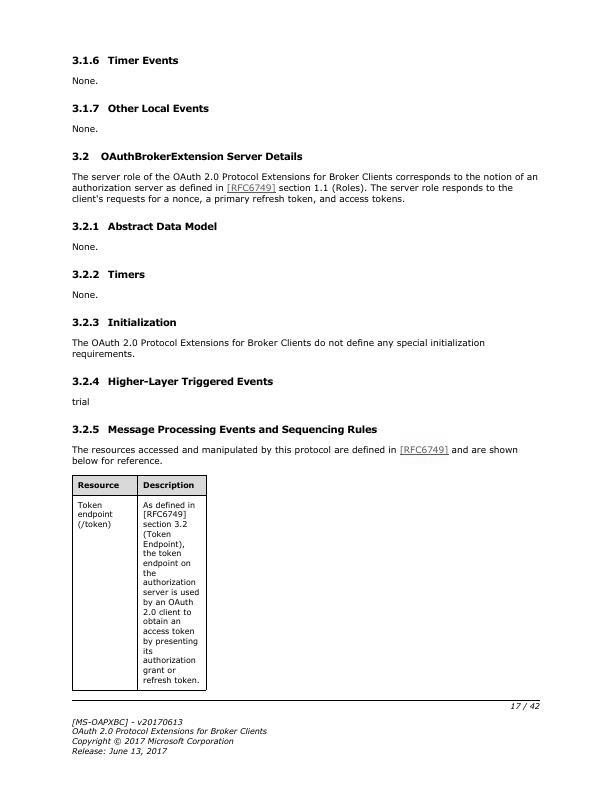table: (70, 474, 212, 694)
text: (68, 169, 540, 205), (68, 442, 521, 469), (70, 335, 487, 362), (68, 713, 268, 762), (69, 421, 383, 436), (70, 371, 276, 392), (69, 151, 303, 165), (68, 221, 223, 235), (68, 103, 211, 117), (71, 313, 181, 330), (67, 54, 180, 69), (68, 266, 147, 281), (68, 74, 101, 88), (68, 240, 99, 254), (69, 122, 100, 135), (69, 394, 94, 409), (68, 289, 102, 300)
